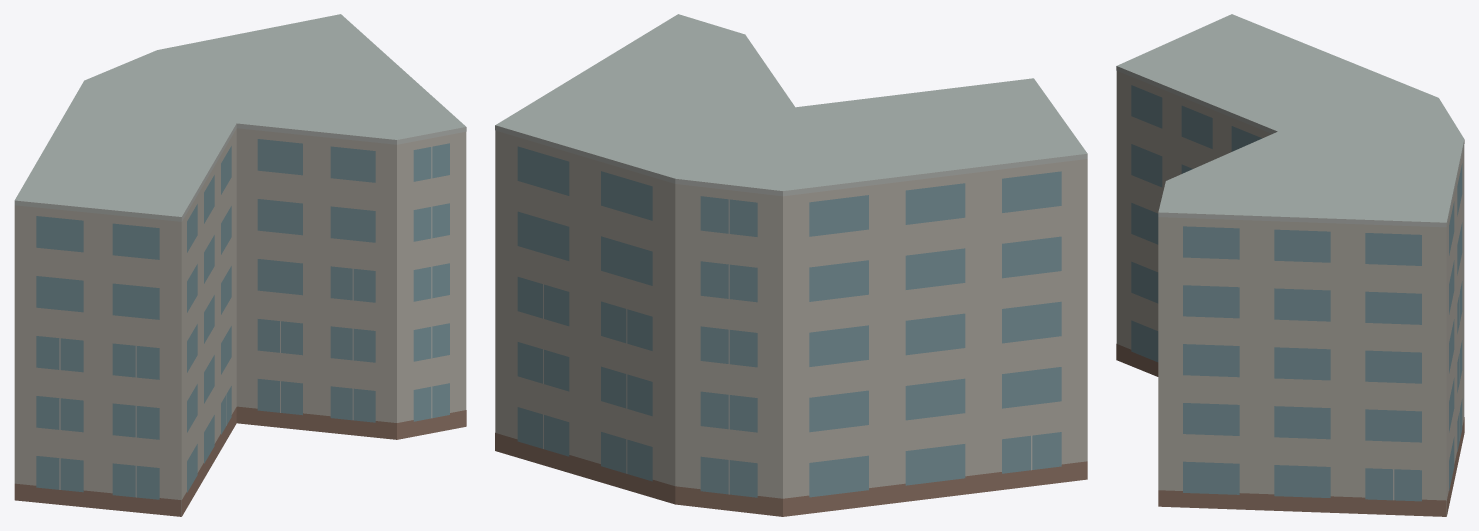
Rendered from survey-upis-32872365.glb.
3 renders of one model, left to right at view 1: azimuth 30°, elevation 25°; view 2: azimuth 150°, elevation 25°; view 3: azimuth 270°, elevation 25°, orthographic. The views are drawn at different scales.
Visible parts, largest first — view 1: survey-upis-32872365.tmp; view 2: survey-upis-32872365.tmp; view 3: survey-upis-32872365.tmp.
Boxes of the visible parts, x1,y1,x2,y2 form: survey-upis-32872365.tmp: [14, 14, 466, 516]; survey-upis-32872365.tmp: [495, 14, 1087, 516]; survey-upis-32872365.tmp: [1116, 14, 1464, 516].
Bounding box in the file's own units: 23.21 × 15.25 × 16.35.
